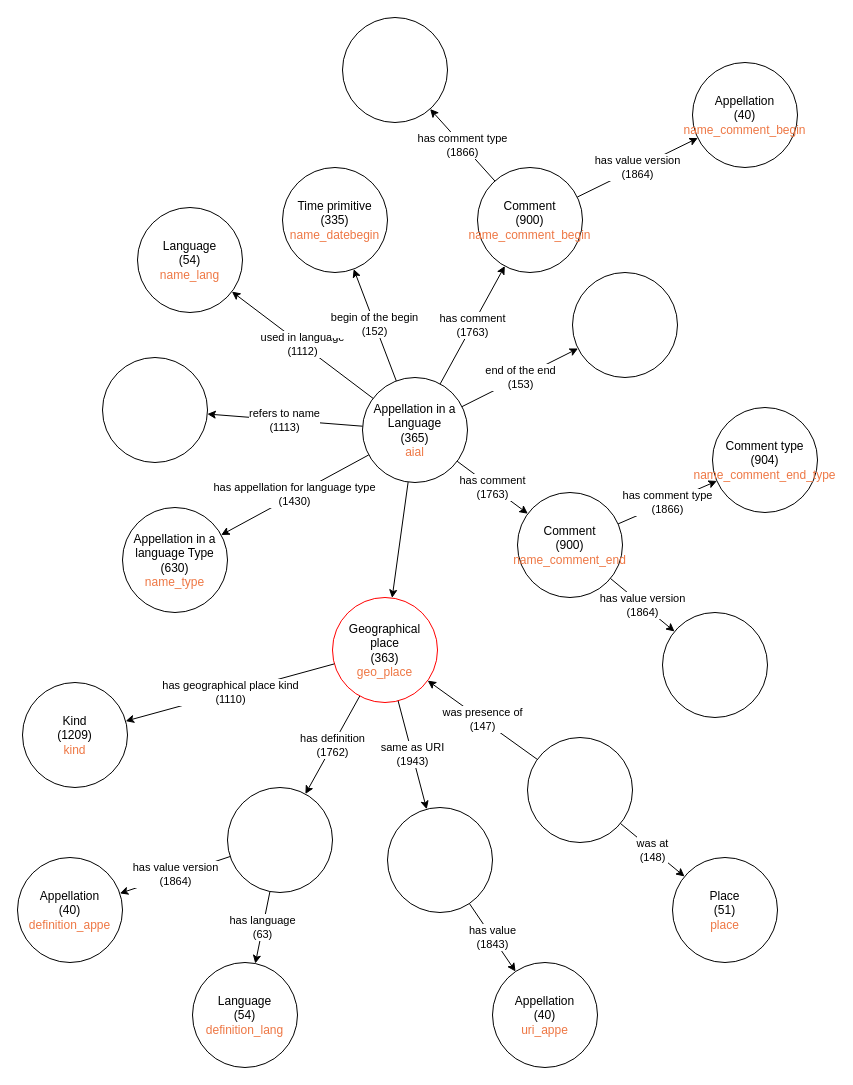
The diagram is 853 pixels wide and 1085 high, and some of its shapes have lost their labels. Each missing label, with the centre of its shape:
"Appellation (40) name" belongs at [155,409].
"Appellation (40) name_comment_end" belongs at [715,665].
"Comment type (904) name_comment_begin_type" belongs at [395,69].
"Definition (899) definition" belongs at [279,839].
"Presence (84) presence" belongs at [579,789].
"Time primitive (335) name_dateend" belongs at [625,325].
"URI (67) uri" belongs at [439,859].
